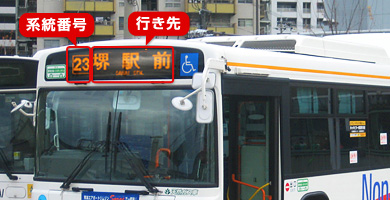destination: (69, 48, 174, 78)
